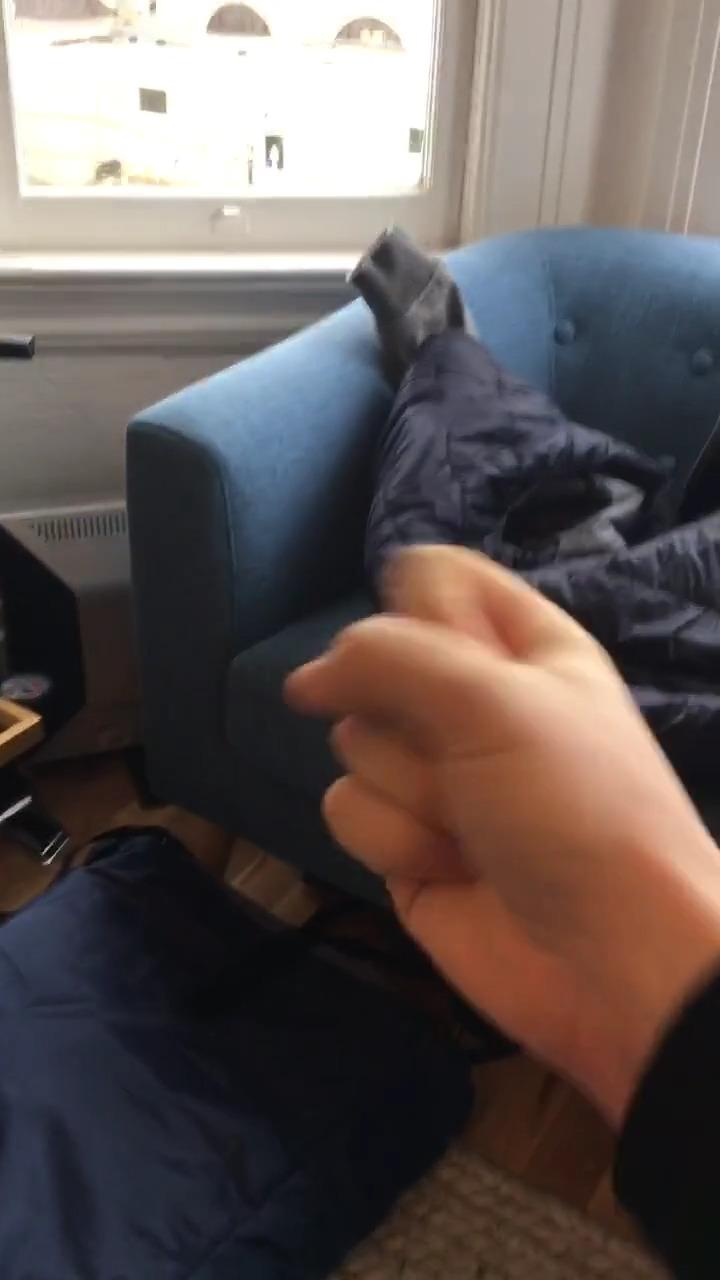Rock: (284, 544, 688, 1061)
